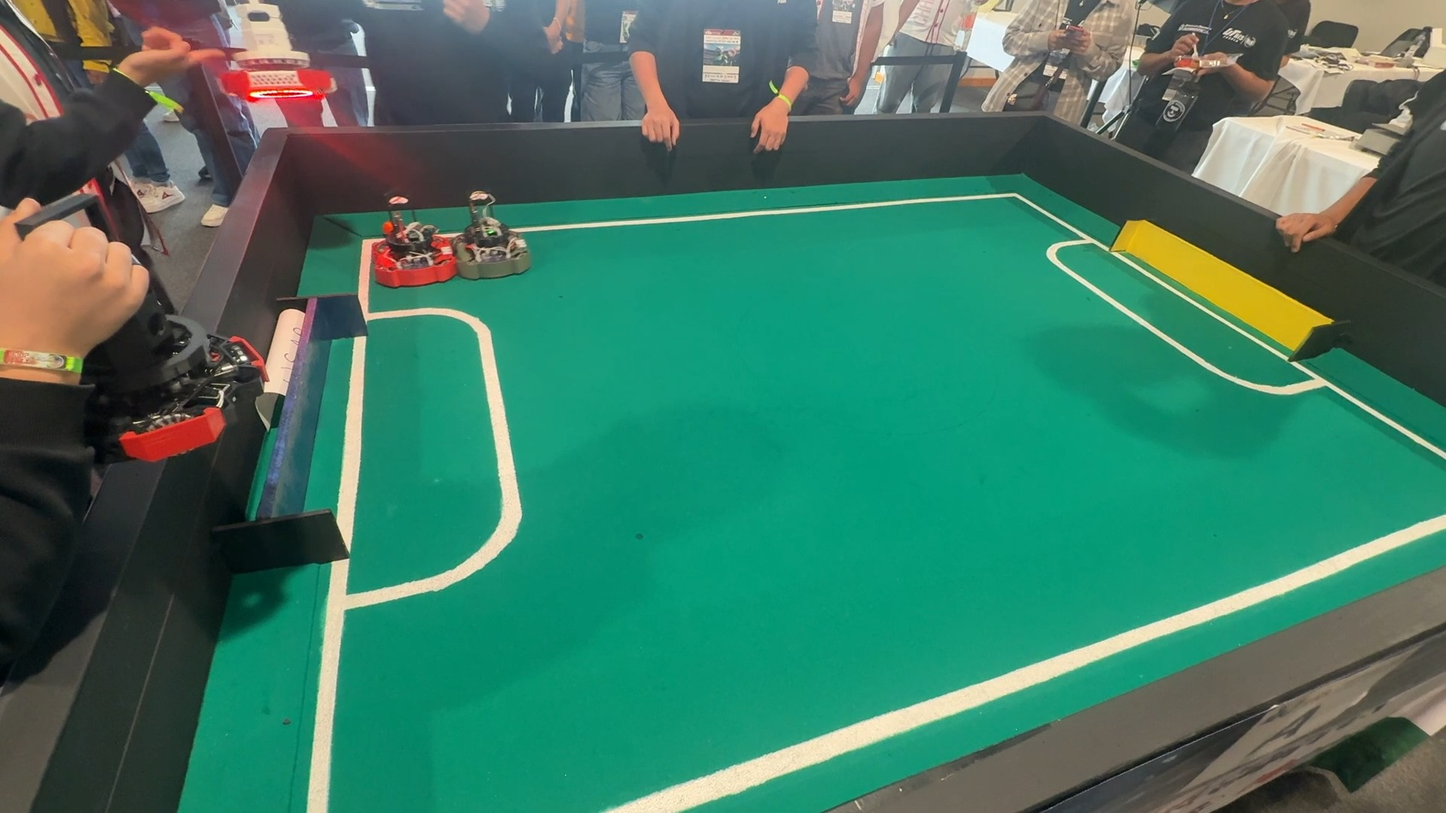Robot: (366, 189, 448, 288), (455, 184, 529, 285)
